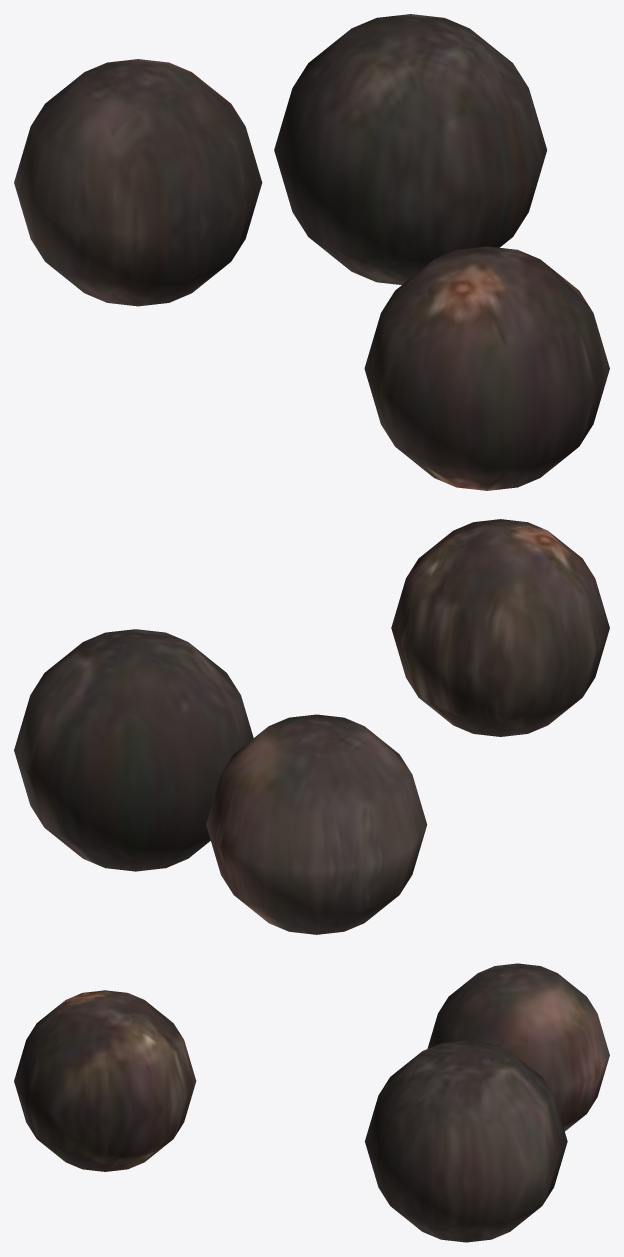
Rendered from JuniperBerries.fbx.
The picture shows the model from 3 angles, top to bottom: view 1: azimuth 30°, elevation 25°; view 2: azimuth 150°, elevation 25°; view 3: azimuth 270°, elevation 25°; orthographic projection. The views are drawn at different scales.
Visible parts, largest first — view 1: Group2, Group1, Group3; view 2: Group2, Group1, Group3; view 3: Group2, Group3, Group1.
Boxes of the visible parts, box(x1,y1,x2,y2) form: Group2: box(274, 14, 546, 284); Group1: box(14, 59, 262, 306); Group3: box(364, 246, 609, 490); Group2: box(14, 629, 253, 871); Group1: box(206, 714, 427, 934); Group3: box(391, 519, 609, 736); Group2: box(365, 1040, 567, 1242); Group3: box(14, 990, 196, 1171); Group1: box(427, 963, 609, 1131).
Size of the model in its own units: 8.08 by 4.12 by 12.12.
